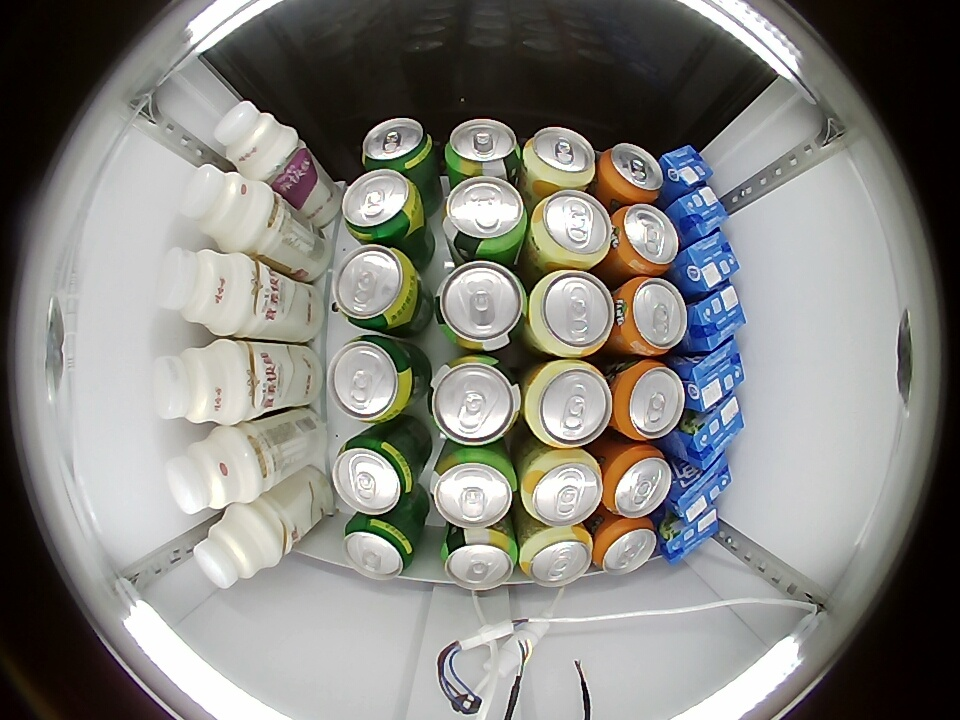fenda: (614, 359, 685, 441), (616, 277, 687, 356), (603, 445, 672, 518), (612, 203, 679, 275), (599, 143, 664, 202), (593, 518, 658, 575)
mangguoxiaolao: (524, 359, 613, 449), (527, 270, 615, 358), (530, 190, 612, 269), (520, 449, 603, 527), (523, 126, 596, 190), (520, 527, 593, 587)
quchenshixiangcao: (428, 355, 521, 446), (434, 261, 527, 351), (430, 448, 517, 529), (442, 176, 528, 257), (440, 529, 518, 591), (443, 118, 521, 178)
weitanai: (679, 395, 745, 469), (681, 340, 745, 413), (670, 456, 732, 521), (688, 284, 747, 352), (678, 231, 742, 292), (659, 507, 720, 564), (670, 185, 730, 241), (660, 144, 714, 192)
xuebi2: (328, 335, 423, 422), (333, 245, 425, 332), (332, 432, 420, 515), (342, 170, 425, 244), (343, 515, 420, 580), (361, 118, 436, 175)
yingyangkuaixian: (156, 248, 253, 336), (165, 426, 261, 514), (151, 340, 250, 425), (180, 164, 272, 252), (194, 504, 280, 589), (215, 101, 298, 179)
